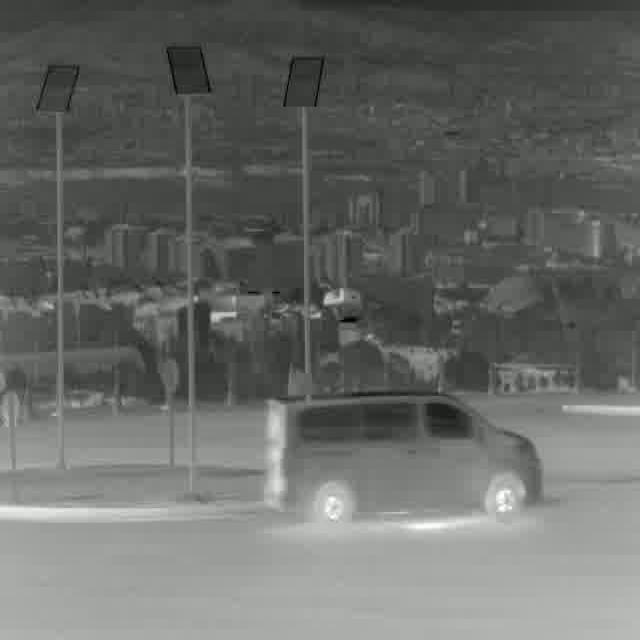Car: (266, 395, 546, 520)
